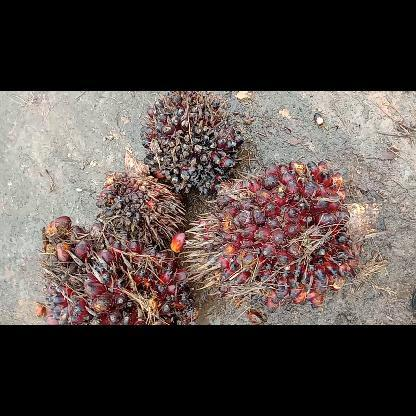Kurang masak: (36, 216, 198, 324)
TBS abnormal: (141, 91, 245, 195), (96, 152, 186, 247)
TBS masak: (184, 160, 378, 312)
